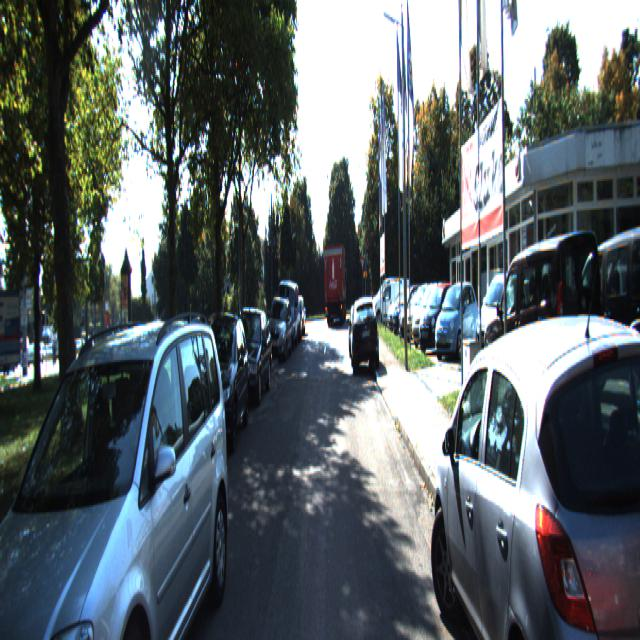Car: (0, 319, 235, 639), (432, 304, 639, 638), (483, 219, 613, 416), (556, 225, 640, 432), (186, 308, 251, 457), (603, 386, 639, 638), (472, 270, 526, 367), (224, 306, 273, 412), (434, 281, 483, 361), (418, 279, 460, 352), (409, 286, 452, 352), (349, 299, 381, 382), (264, 296, 294, 364), (323, 244, 347, 328), (628, 229, 640, 384), (276, 283, 300, 354), (374, 279, 407, 327)
